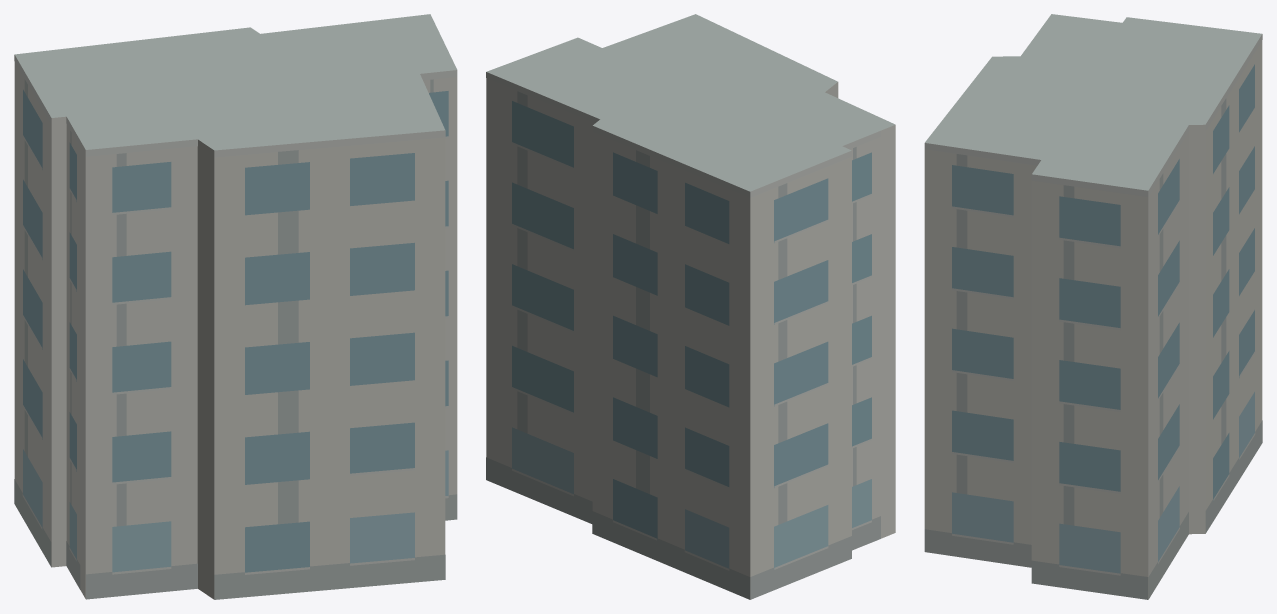
The model's file is survey-upis-32487106.glb.
3 renders of one model, left to right at view 1: azimuth 30°, elevation 25°; view 2: azimuth 150°, elevation 25°; view 3: azimuth 270°, elevation 25°, orthographic. The views are drawn at different scales.
Visible parts, largest first — view 1: survey-upis-32487106.tmp; view 2: survey-upis-32487106.tmp; view 3: survey-upis-32487106.tmp.
Part boxes in pixels (left/top/right/bottom): survey-upis-32487106.tmp: left=14, top=14, right=457, bottom=599; survey-upis-32487106.tmp: left=486, top=14, right=895, bottom=599; survey-upis-32487106.tmp: left=924, top=14, right=1262, bottom=599.
Bounding box in the file's own units: 14.64 × 15.8 × 11.83.
